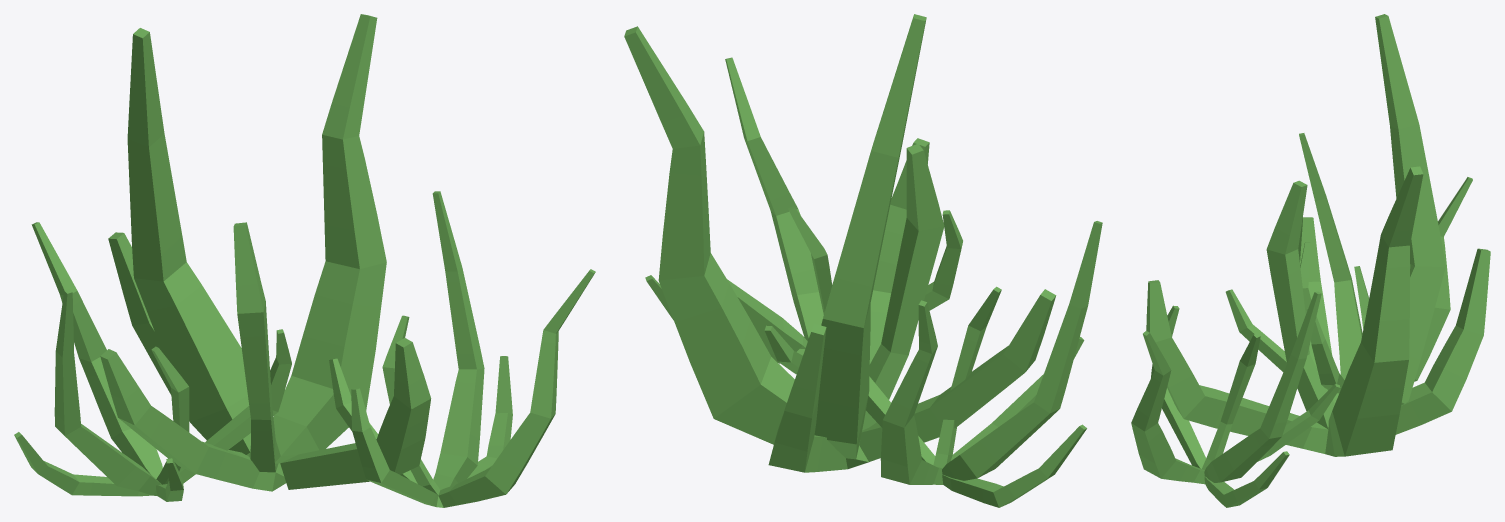
The model's file is Grass3.fbx.
3 views of the same model, side by side, from view 1: azimuth 30°, elevation 25°; view 2: azimuth 150°, elevation 25°; view 3: azimuth 270°, elevation 25° (orthographic). The views are drawn at different scales.
Visible parts, largest first — view 1: Cube, Cube.001; view 2: Cube, Cube.001; view 3: Cube, Cube.001.
Boxes of the visible parts, x1,y1,x2,y2 form: Cube: (100, 14, 431, 491); Cube.001: (14, 191, 595, 507); Cube: (624, 14, 1056, 472); Cube.001: (645, 57, 1102, 507); Cube: (1146, 14, 1490, 456); Cube.001: (1131, 133, 1472, 507).
Bounding box in the file's own units: 117 × 111 × 92.26.
